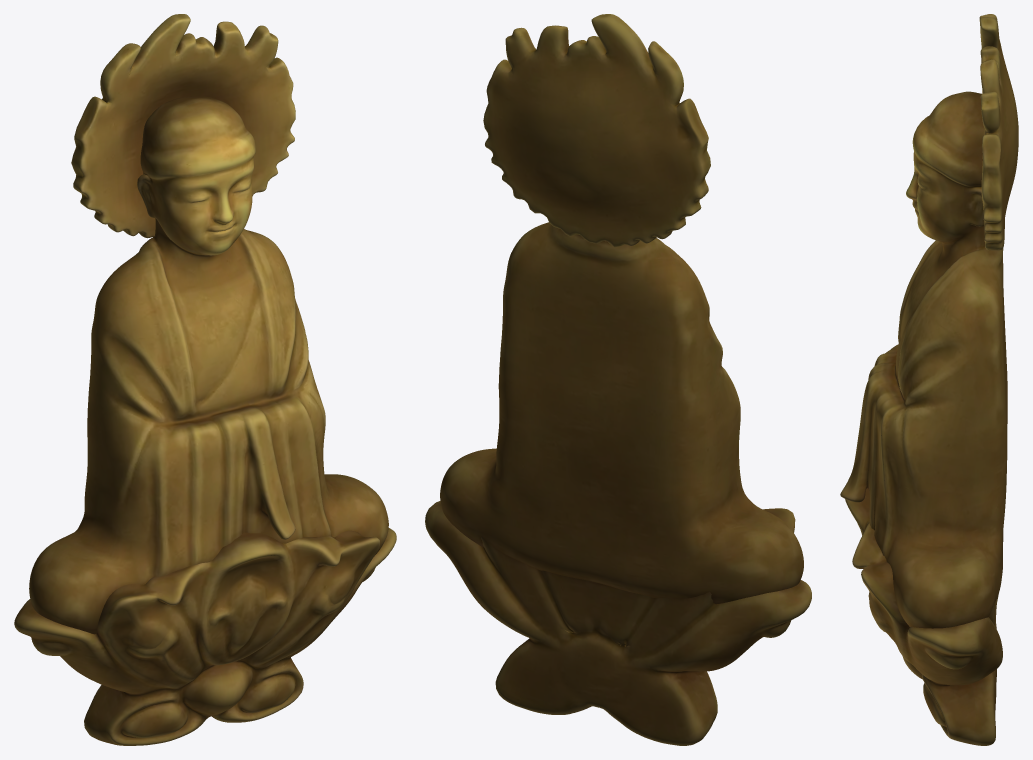
File: buddha.glb
3 views of the same model, side by side, from view 1: azimuth 30°, elevation 25°; view 2: azimuth 150°, elevation 25°; view 3: azimuth 270°, elevation 25° (orthographic). The views are drawn at different scales.
Visible parts, largest first — view 1: under; view 2: under; view 3: under.
Part boxes in pixels (x1,y1,x2,y2): under: (14, 14, 396, 745); under: (425, 14, 811, 745); under: (840, 14, 1018, 745).
Size of the model in its own units: 0.0499 by 0.0895 by 0.0212.
1 material, 1 textured.
